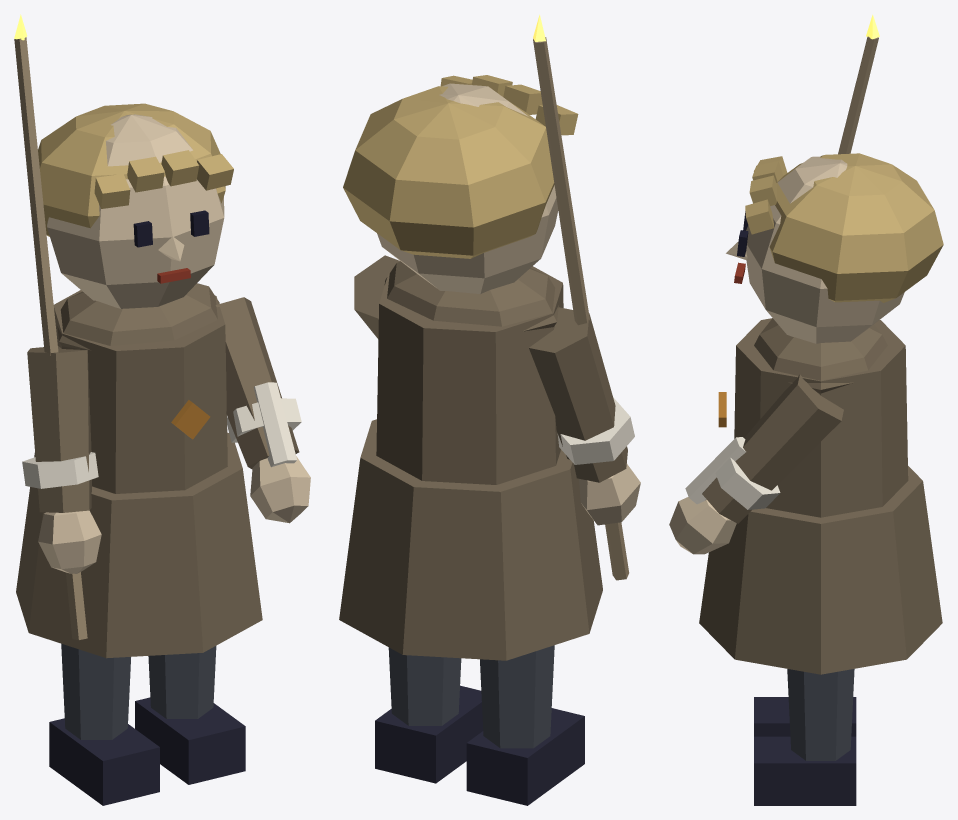
Rendered from tobin.glb.
3 views of the same model, side by side, from view 1: azimuth 30°, elevation 25°; view 2: azimuth 150°, elevation 25°; view 3: azimuth 270°, elevation 25° (orthographic). The views are drawn at different scales.
Parts seen in each view (by area): view 1: Torso, Head, ArmR, LegR, ArmL, LegL; view 2: Torso, Head, ArmR, LegR, LegL, ArmL; view 3: Torso, Head, ArmL, LegL, ArmR, LegR.
Part boxes in pixels (x1,y1,x2,y2): Torso: (16, 283, 262, 658); Head: (38, 103, 233, 308); ArmR: (14, 14, 101, 640); LegR: (49, 643, 159, 805); ArmL: (215, 297, 310, 523); LegL: (135, 646, 245, 784); Torso: (339, 261, 602, 660); Head: (343, 75, 578, 293); ArmR: (529, 14, 640, 580); LegR: (466, 645, 584, 805); LegL: (375, 647, 483, 783); ArmL: (354, 255, 400, 338); Torso: (699, 318, 942, 674); Head: (726, 153, 943, 343); ArmL: (669, 374, 843, 554); LegL: (754, 669, 856, 805); ArmR: (838, 14, 879, 154); LegR: (754, 697, 856, 736).
Size of the model in its own units: 0.6556 by 1.95 by 0.6778.
